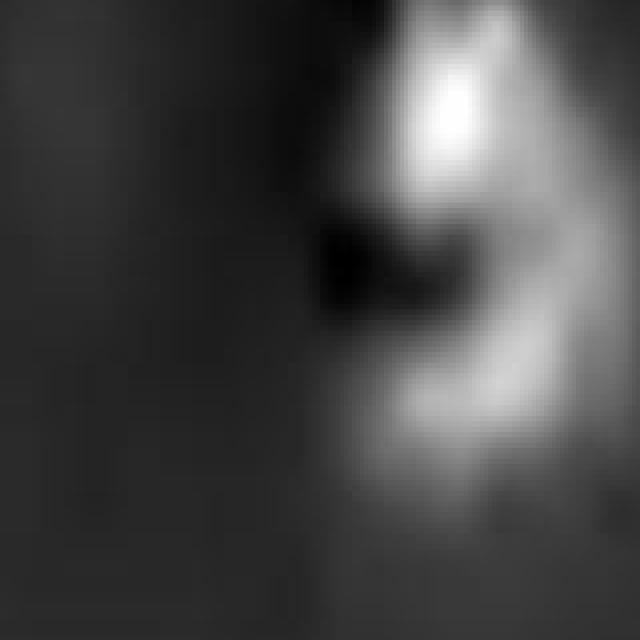person: (313, 1, 640, 588)
